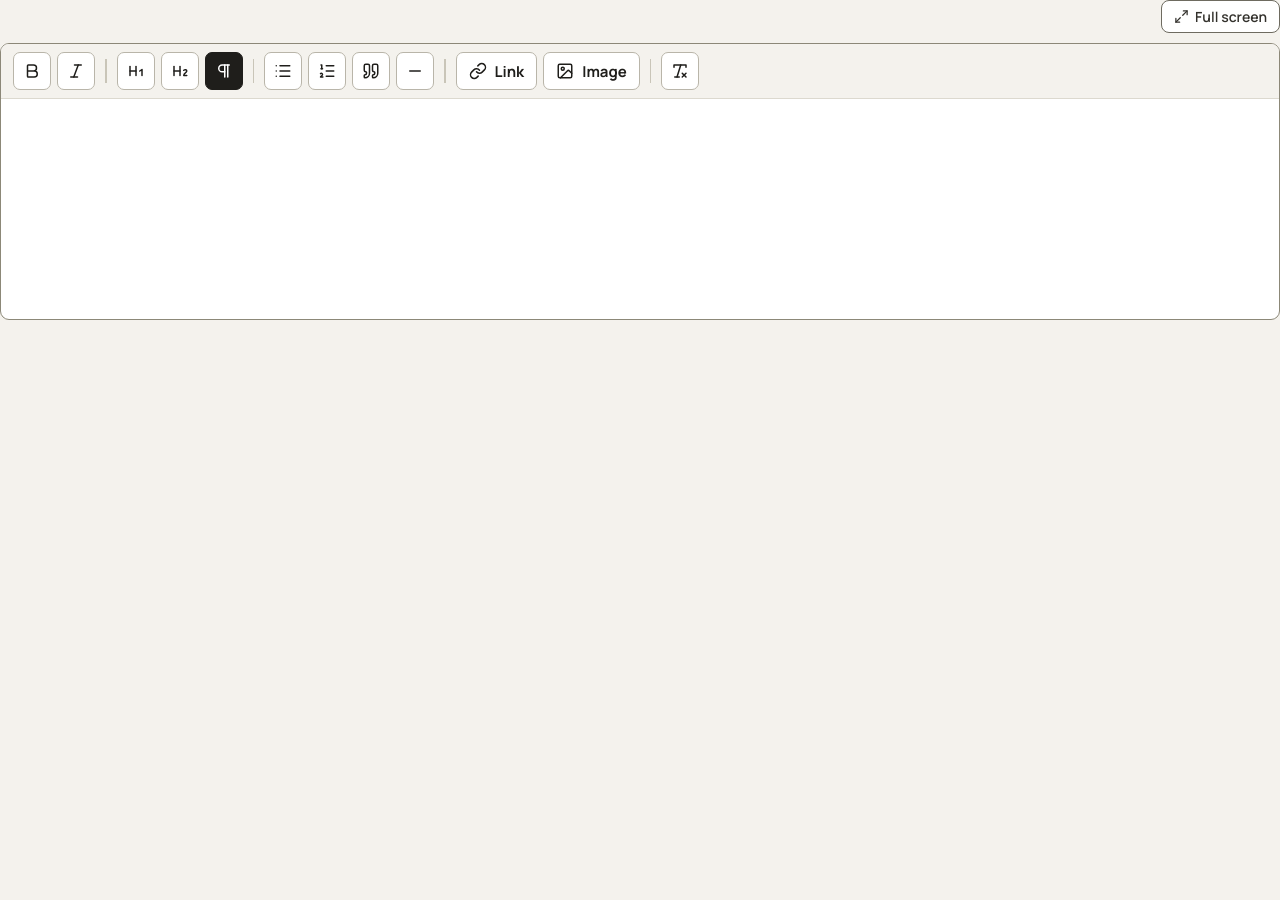
Test: RichtextEditor › image insert modal › closes image picker when Cancel clicked
Click the button titled "Insert image" at (592, 71), box [543,52,640,90]
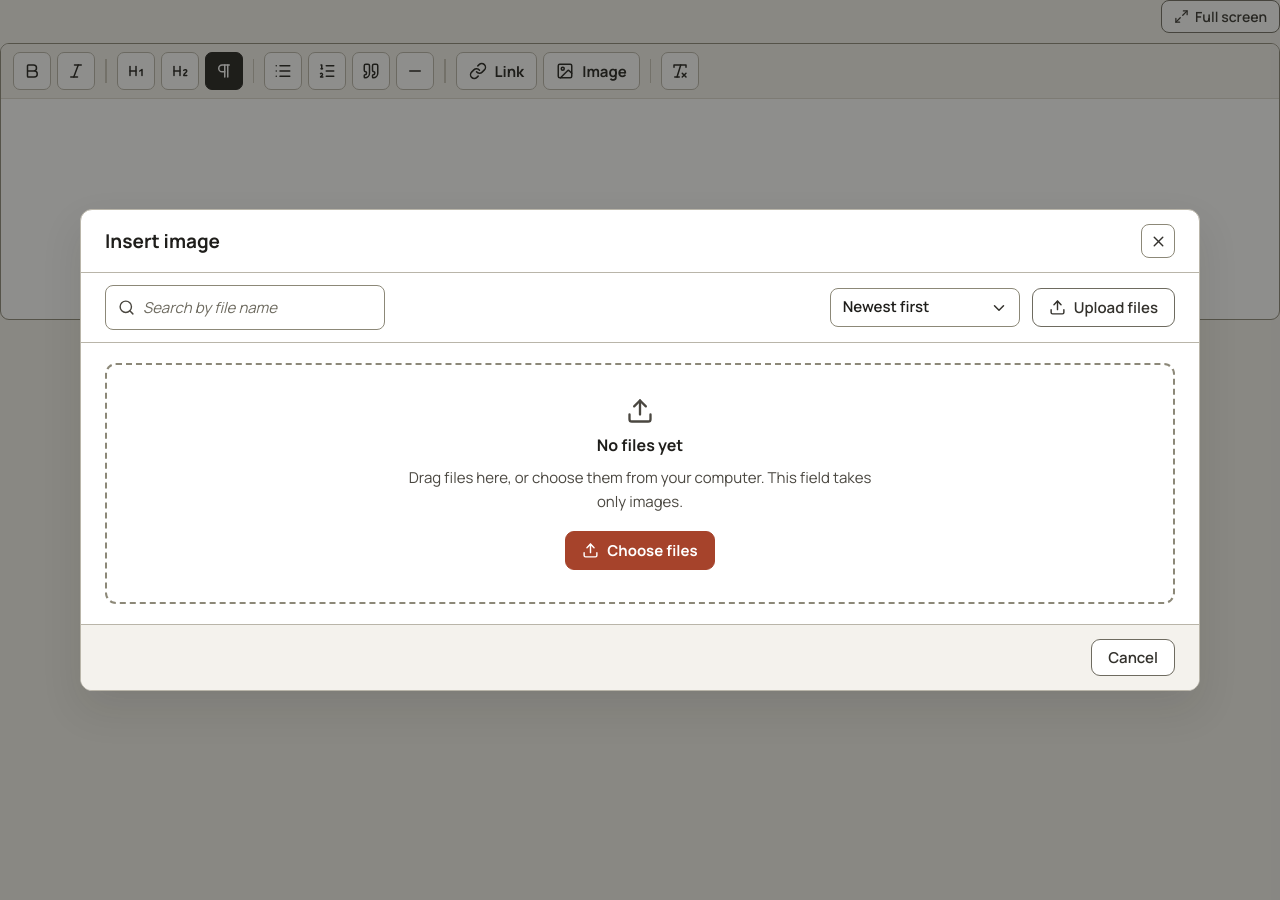
Click the button "Cancel" at (1133, 657), box [1091,639,1175,676]
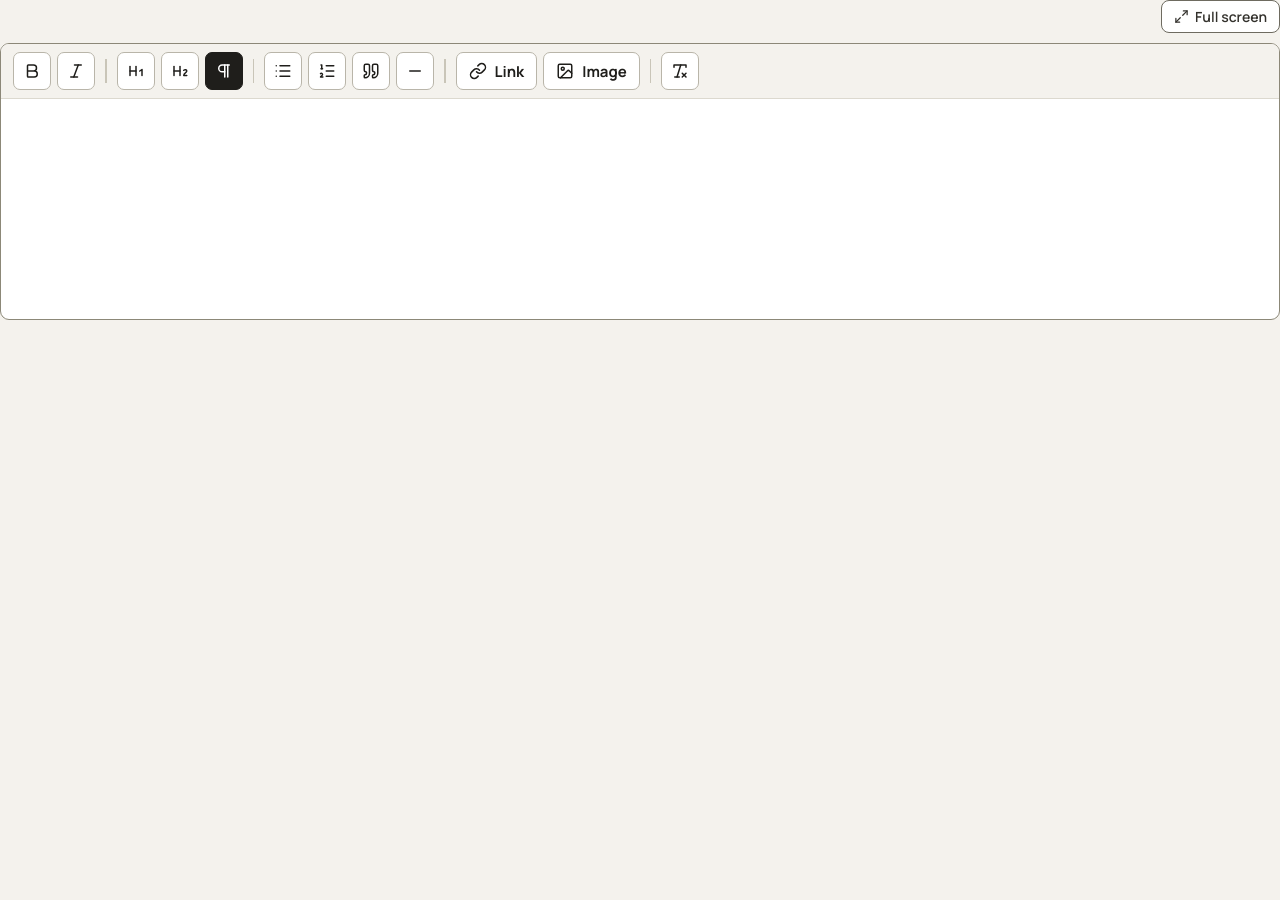
Expected: the dialog is gone
